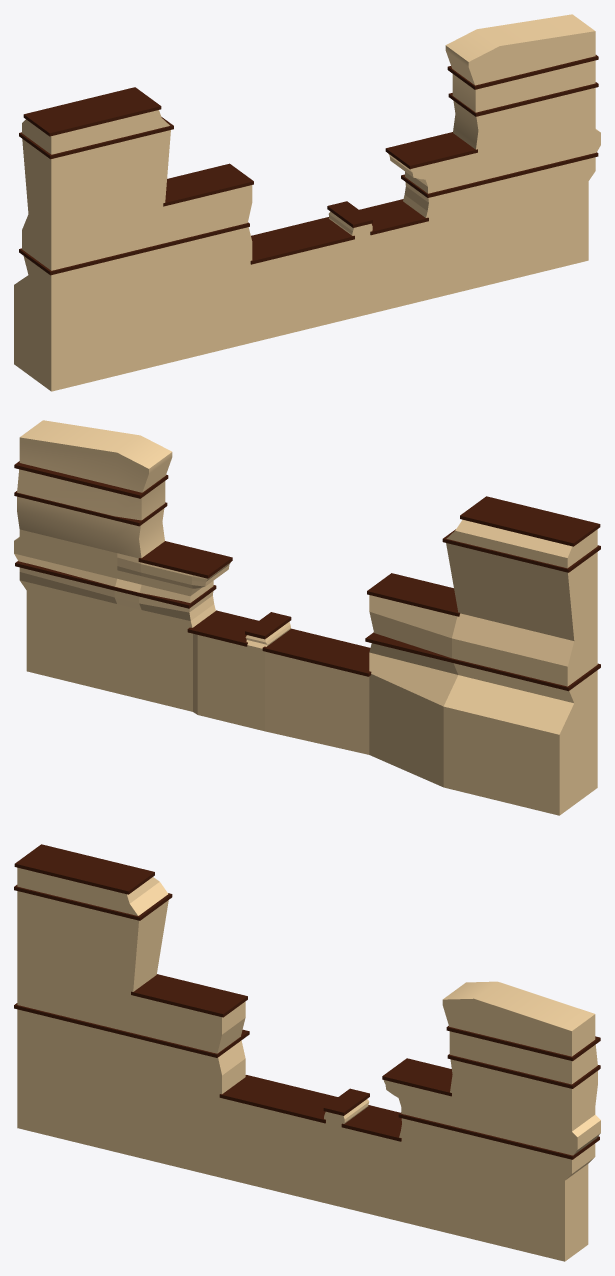
The model's file is map2.FBX.
3 renders of one model, top to bottom at view 1: azimuth 30°, elevation 25°; view 2: azimuth 150°, elevation 25°; view 3: azimuth 330°, elevation 25°, orthographic.
Visible parts, largest first — view 1: Box002; view 2: Box002; view 3: Box002.
Boxes of the visible parts, x1,y1,x2,y2 form: Box002: (14,14,600,391); Box002: (14,420,600,815); Box002: (14,844,600,1261).
Bounding box in the file's own units: 286 × 34.6 × 128.
